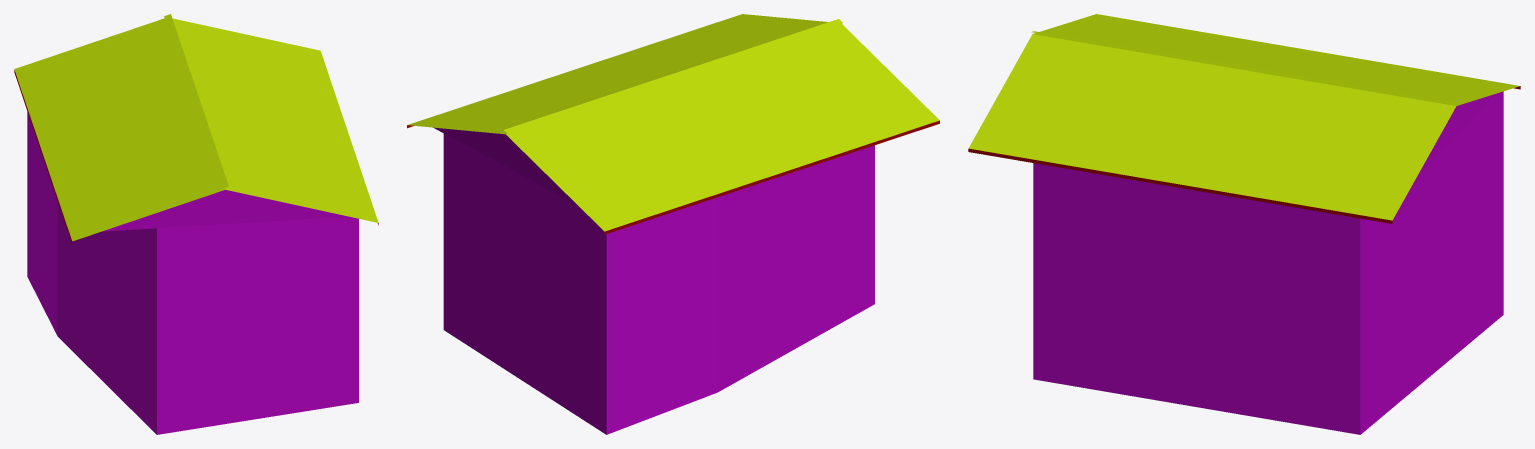
Rendered from rmc_76.glb.
3 views of the same model, side by side, from view 1: azimuth 30°, elevation 25°; view 2: azimuth 150°, elevation 25°; view 3: azimuth 270°, elevation 25° (orthographic). The views are drawn at different scales.
Parts seen in each view (by area): view 1: rmc_76; view 2: rmc_76; view 3: rmc_76.
Part boxes in pixels (bbox=[...]): rmc_76: bbox=[14, 14, 378, 434]; rmc_76: bbox=[407, 14, 939, 434]; rmc_76: bbox=[968, 14, 1520, 434].
Size of the model in its own units: 15.23 by 9.5 by 17.2.
